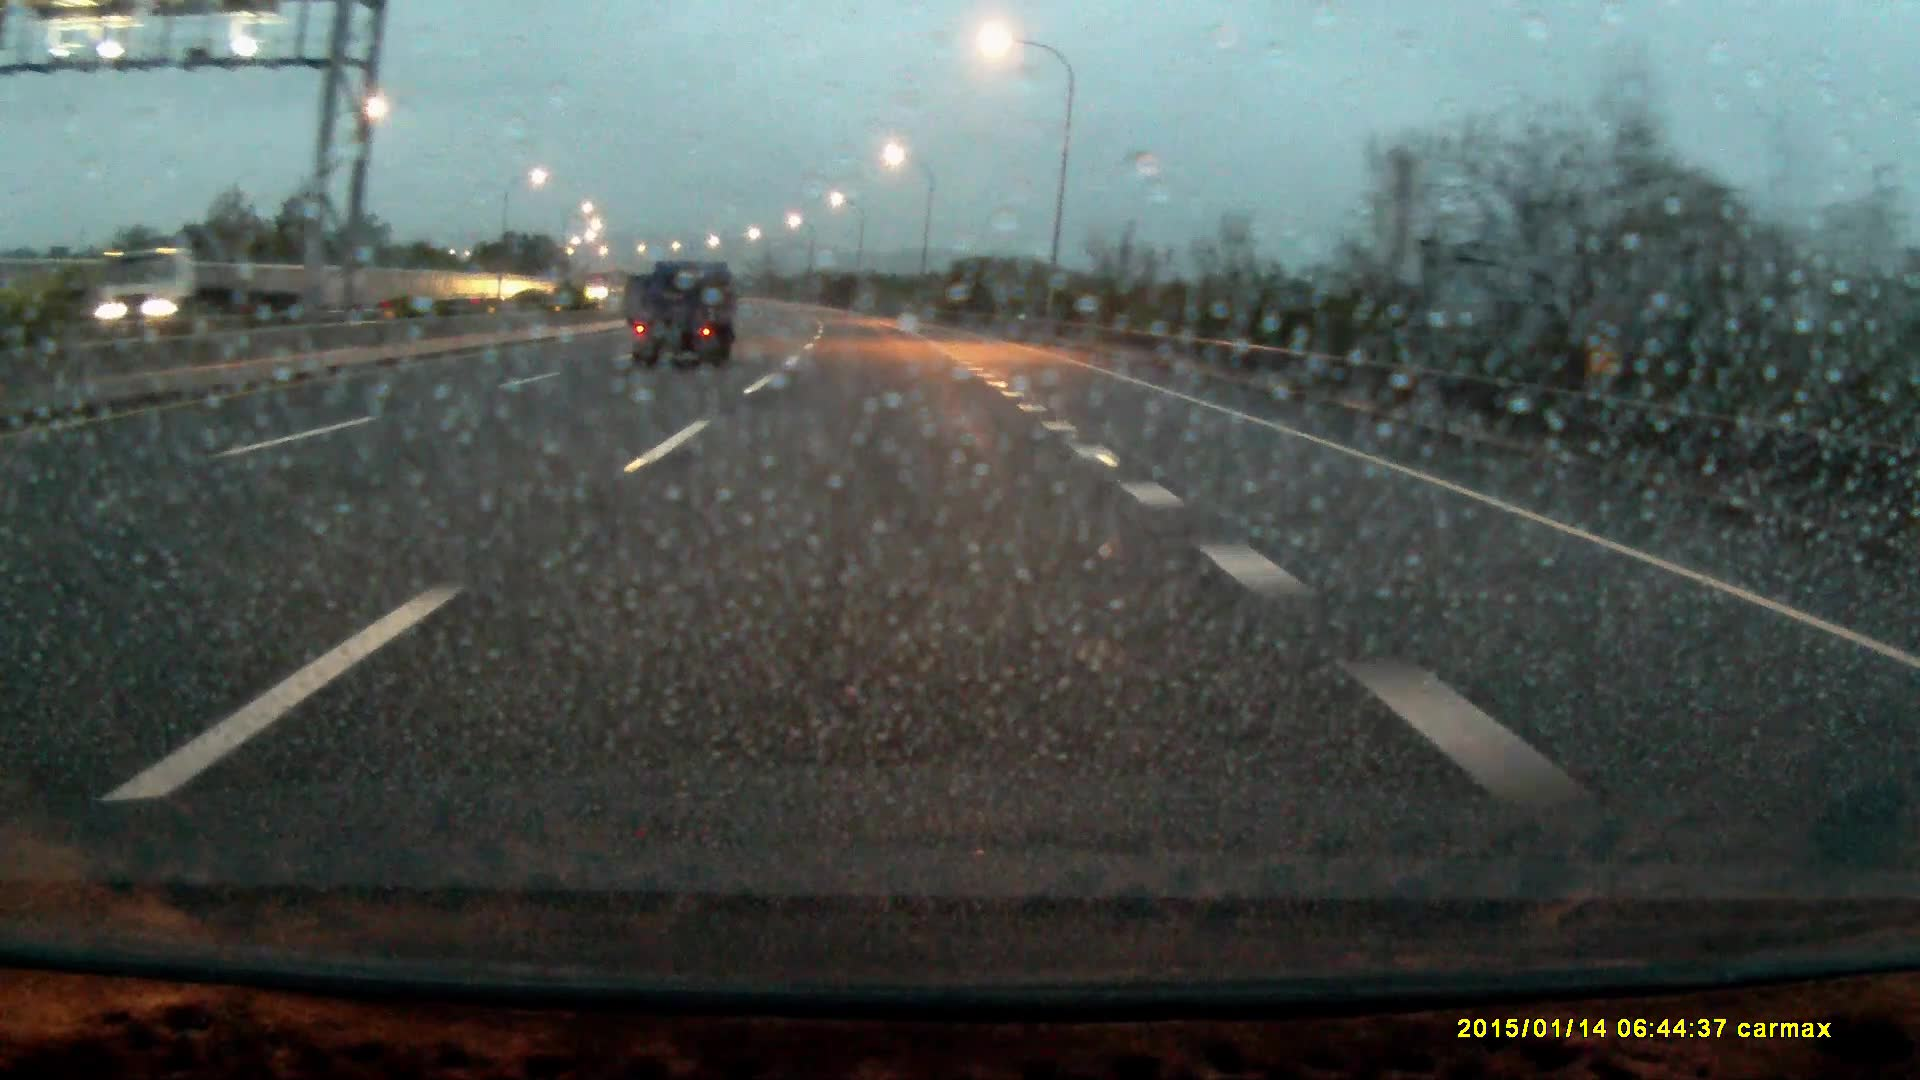vehicle: (65, 249, 282, 326), (632, 262, 738, 373)
